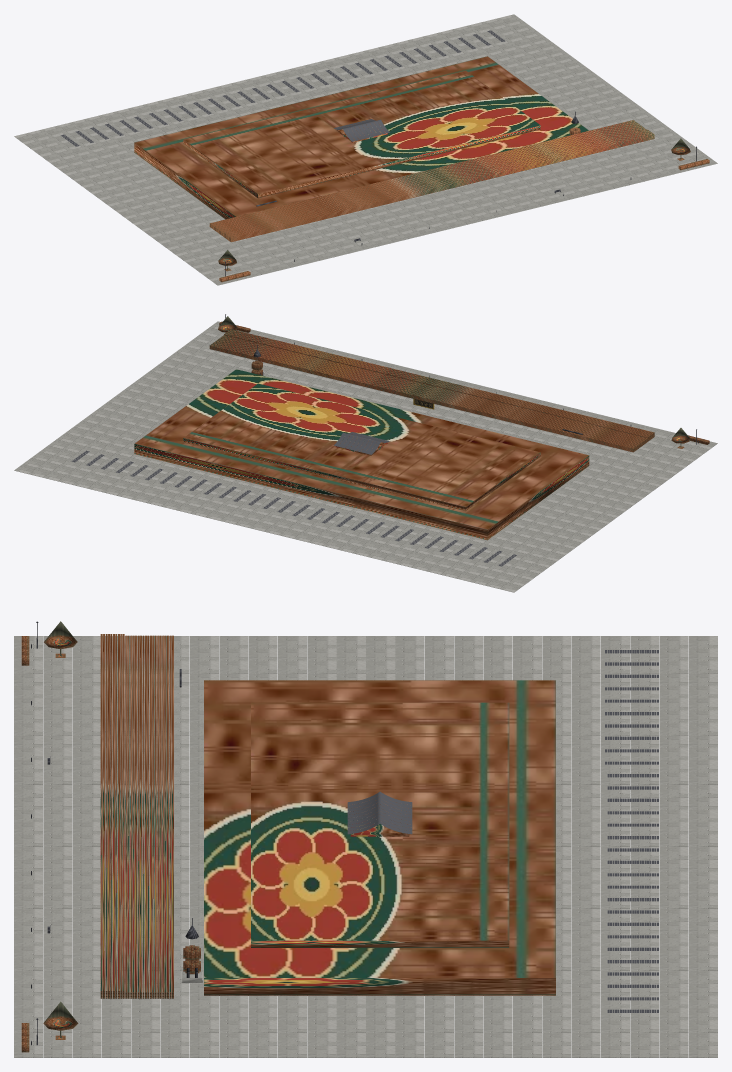
The picture shows the model from 3 angles, top to bottom: view 1: azimuth 30°, elevation 25°; view 2: azimuth 150°, elevation 25°; view 3: azimuth 270°, elevation 25°; orthographic projection. The views are drawn at different scales.
Parts seen in each view (by area): view 1: 11710_01_05540_011_01__plinth_ground_base, 11710_01_05540_011_02__mass_body_facade, 11710_01_05540_011_03__roof_deck_structure, 11710_01_05540_011_06__landscape_greenery; view 2: 11710_01_05540_011_02__mass_body_facade, 11710_01_05540_011_01__plinth_ground_base, 11710_01_05540_011_03__roof_deck_structure, 11710_01_05540_011_06__landscape_greenery; view 3: 11710_01_05540_011_01__plinth_ground_base, 11710_01_05540_011_02__mass_body_facade, 11710_01_05540_011_03__roof_deck_structure, 11710_01_05540_011_06__landscape_greenery.
Boxes of the visible parts, bbox=[...] form: 11710_01_05540_011_01__plinth_ground_base: bbox=[14, 14, 717, 285]; 11710_01_05540_011_02__mass_body_facade: bbox=[134, 56, 654, 242]; 11710_01_05540_011_03__roof_deck_structure: bbox=[61, 30, 505, 146]; 11710_01_05540_011_06__landscape_greenery: bbox=[218, 138, 709, 282]; 11710_01_05540_011_02__mass_body_facade: bbox=[134, 329, 654, 540]; 11710_01_05540_011_01__plinth_ground_base: bbox=[14, 321, 717, 592]; 11710_01_05540_011_03__roof_deck_structure: bbox=[71, 432, 516, 566]; 11710_01_05540_011_06__landscape_greenery: bbox=[218, 316, 709, 448]; 11710_01_05540_011_01__plinth_ground_base: bbox=[14, 636, 717, 1057]; 11710_01_05540_011_02__mass_body_facade: bbox=[100, 634, 555, 998]; 11710_01_05540_011_03__roof_deck_structure: bbox=[347, 650, 658, 1012]; 11710_01_05540_011_06__landscape_greenery: bbox=[21, 621, 78, 1052].
Bounding box in the file's own units: 170 × 11.8 × 120.
Materials: 7 (7 with a texture image).
